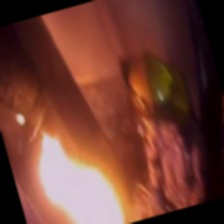fire: (25, 121, 128, 224)
